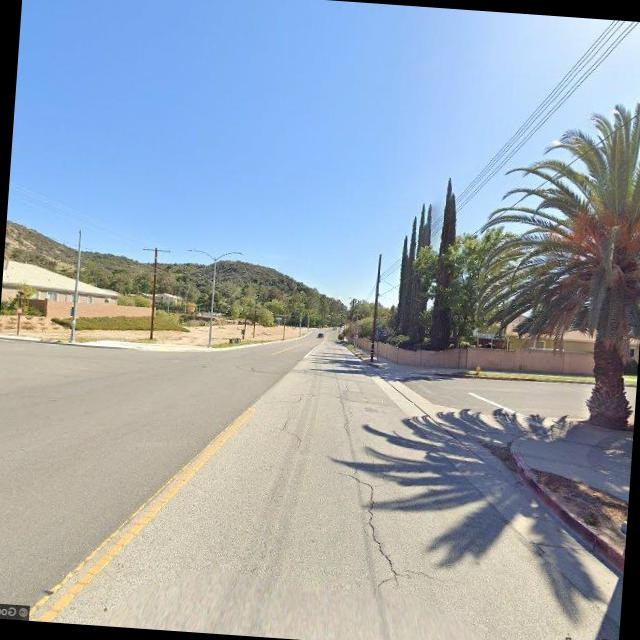crack: (341, 456, 412, 592), (334, 374, 360, 440), (399, 563, 472, 586), (278, 416, 308, 454)
